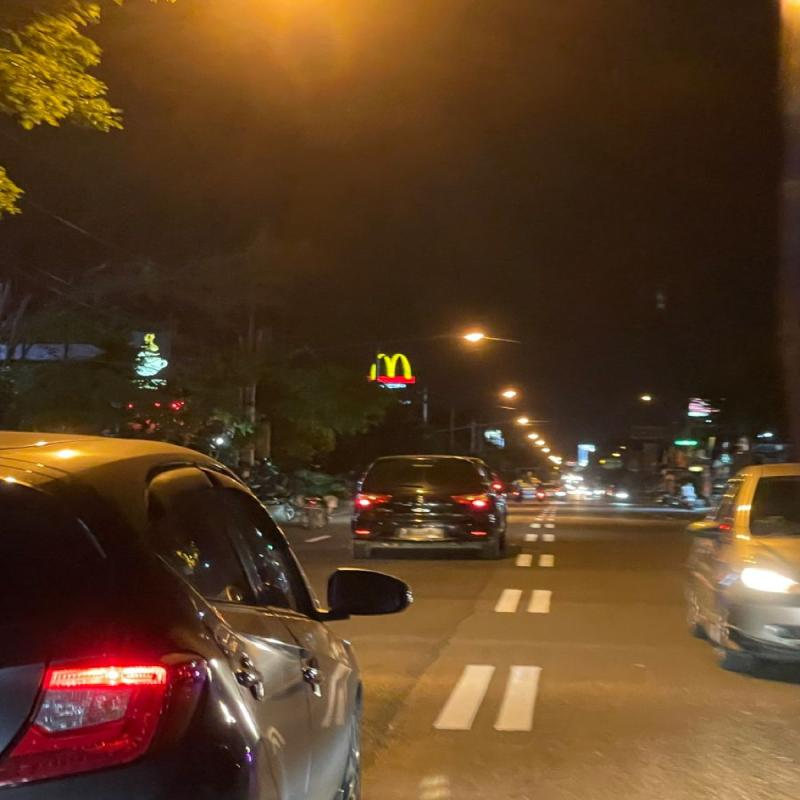license plate on a car: (398, 522, 458, 542)
